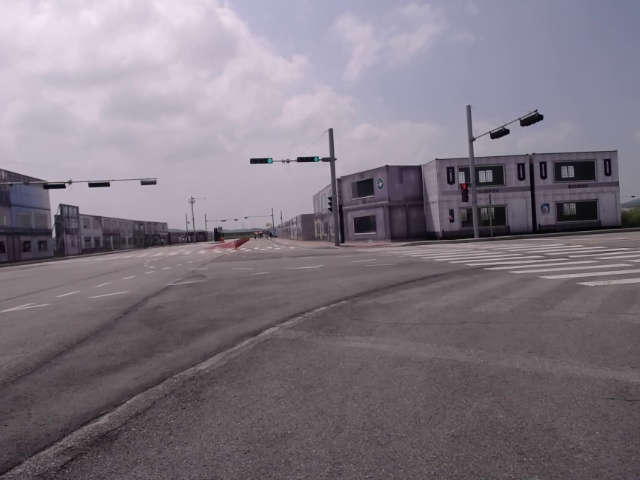straight_green_4: (250, 158, 273, 165), (298, 157, 319, 163)
